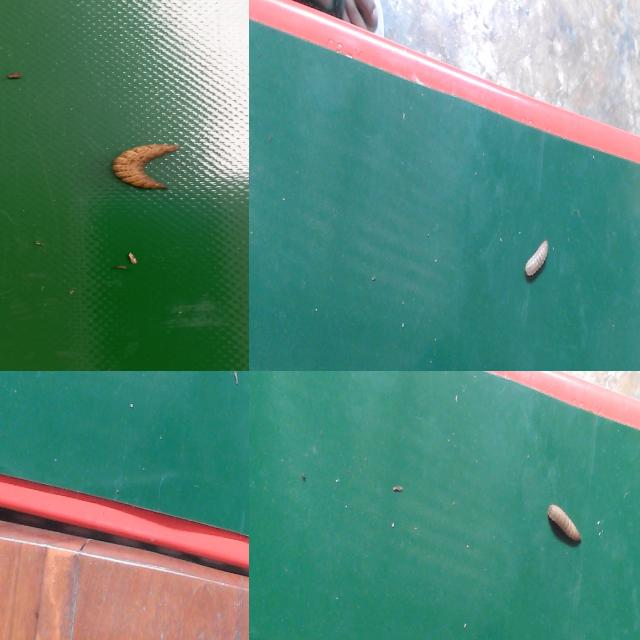Maggot: (109, 144, 177, 191), (546, 504, 582, 549), (524, 242, 551, 282)
